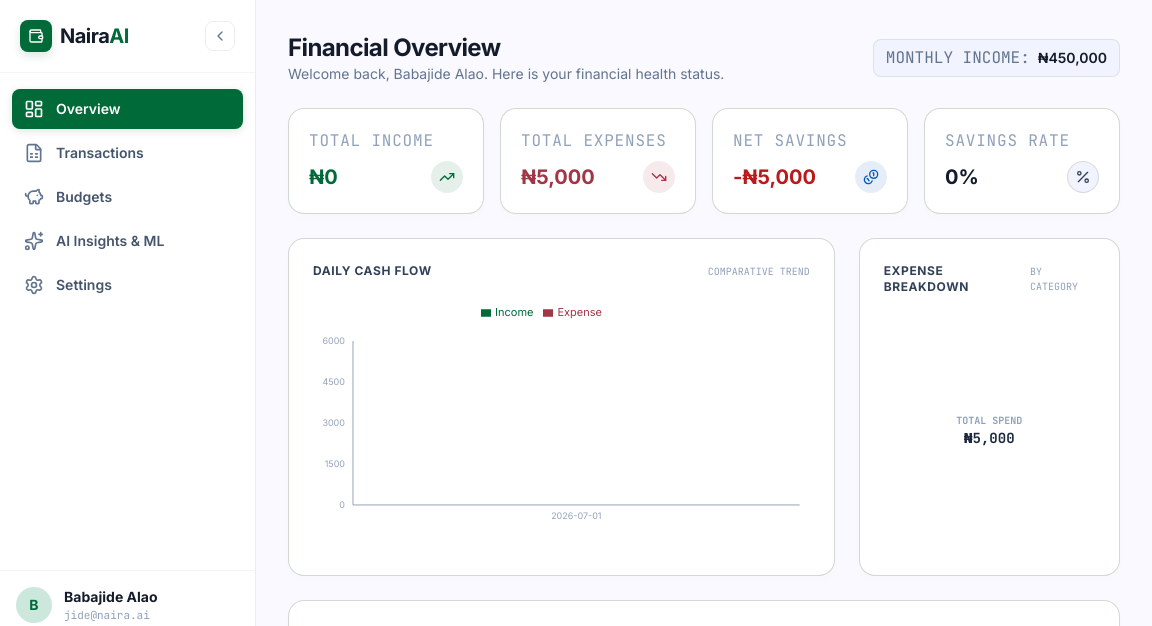
it: Transactions tab › deletes a transaction after confirmation
Expected: the heading "Financial Overview" is shown, 288,33 -> 500,62
Click the button "Transactions": (128,153) 12,133 -> 243,173
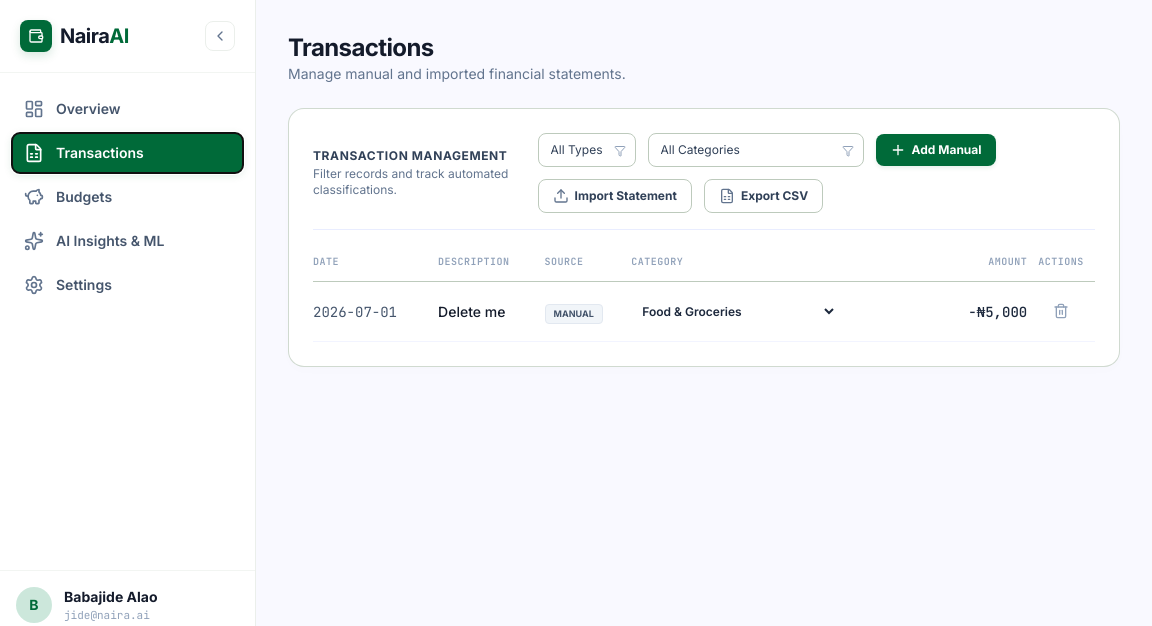
Expected: the text "Delete me" is shown, 438,282 -> 545,342
Expected: the heading "Transaction Management" is shown, 313,148 -> 522,164
Click the button without text in the row of "2026-07-01": (1061,310) 1049,298 -> 1073,322
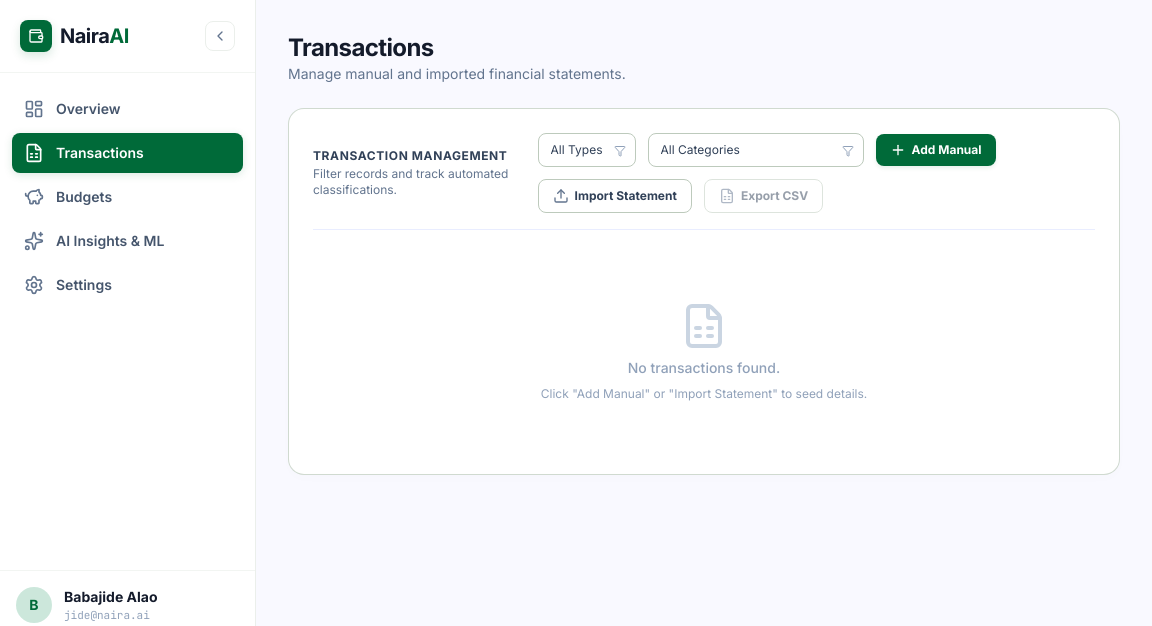
Expected: the text "Delete me" is gone
